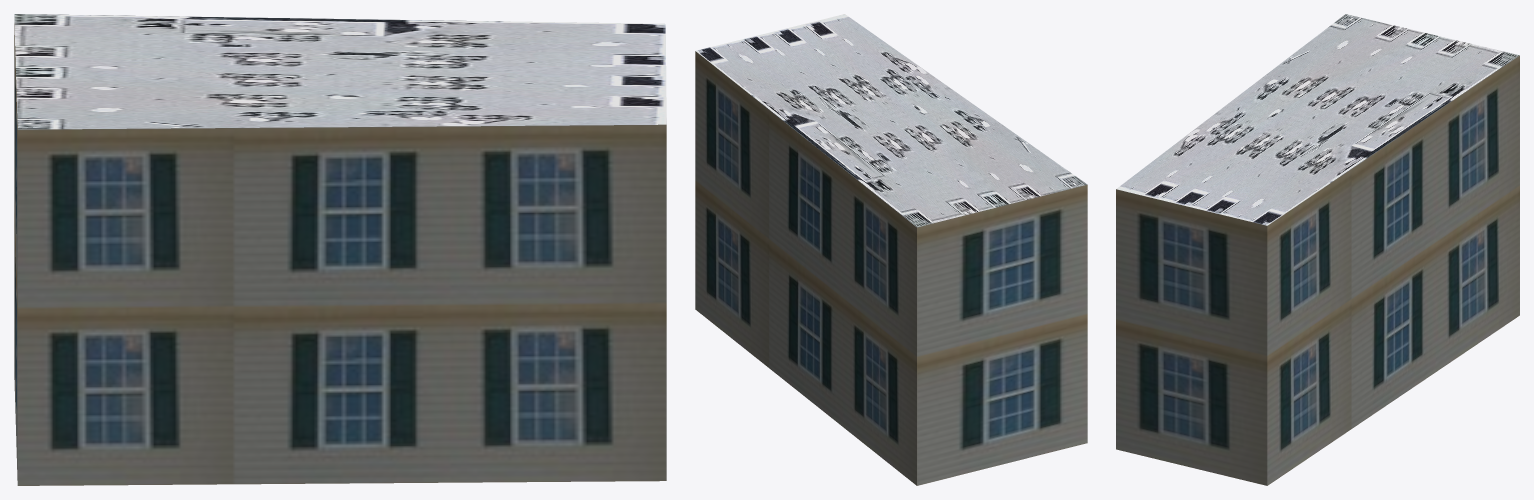
Rendered from ResTex__3329.fbx.
3 renders of one model, left to right at view 1: azimuth 30°, elevation 25°; view 2: azimuth 150°, elevation 25°; view 3: azimuth 270°, elevation 25°, orthographic. The views are drawn at different scales.
Parts seen in each view (by area): view 1: CityEngineMaterial_7_m, CityEngineMaterial_4_m; view 2: CityEngineMaterial_7_m, CityEngineMaterial_4_m; view 3: CityEngineMaterial_7_m, CityEngineMaterial_4_m.
Boxes of the visible parts, <box> form: CityEngineMaterial_7_m: <box>14,24,666,485</box>; CityEngineMaterial_4_m: <box>14,14,666,129</box>; CityEngineMaterial_7_m: <box>695,51,1087,485</box>; CityEngineMaterial_4_m: <box>696,14,1087,227</box>; CityEngineMaterial_7_m: <box>1116,55,1519,485</box>; CityEngineMaterial_4_m: <box>1116,14,1519,225</box>.
Size of the model in its own units: 10.47 by 6 by 8.44.
2 materials, 2 textured.
